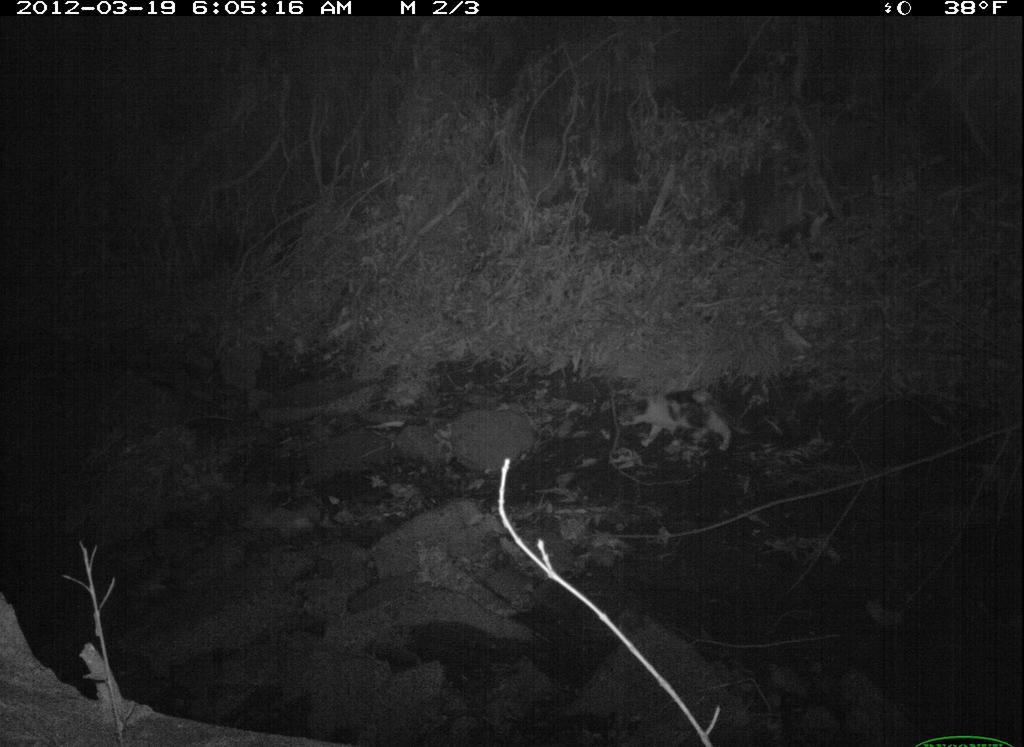cat: (607, 381, 754, 461)
